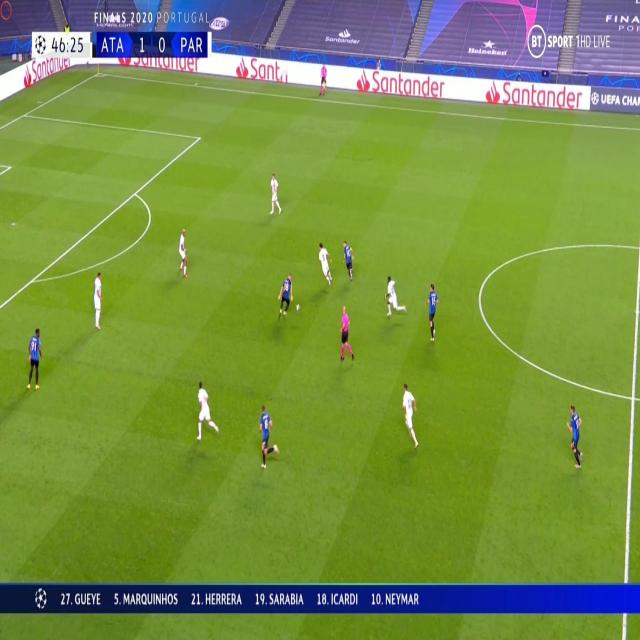ball: (295, 301, 301, 312)
player: (193, 378, 219, 440), (400, 381, 420, 448), (257, 400, 276, 468), (567, 401, 583, 469), (26, 324, 42, 391), (383, 274, 405, 318), (424, 279, 439, 340), (338, 304, 353, 364), (276, 272, 294, 318), (316, 240, 333, 286), (267, 170, 282, 216), (92, 268, 103, 330), (176, 226, 189, 278), (342, 239, 354, 281), (318, 60, 328, 96)
